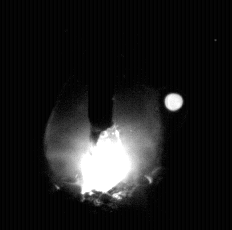arame: (88, 0, 115, 144)
poca: (47, 0, 161, 230)
